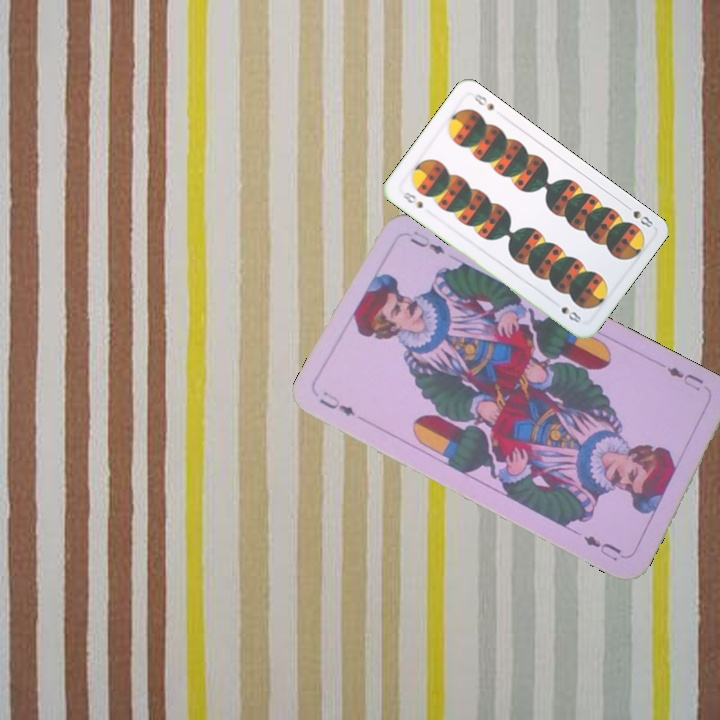EU: (658, 360, 707, 394), (315, 387, 358, 419)
S8: (620, 200, 656, 230), (399, 188, 426, 211)
